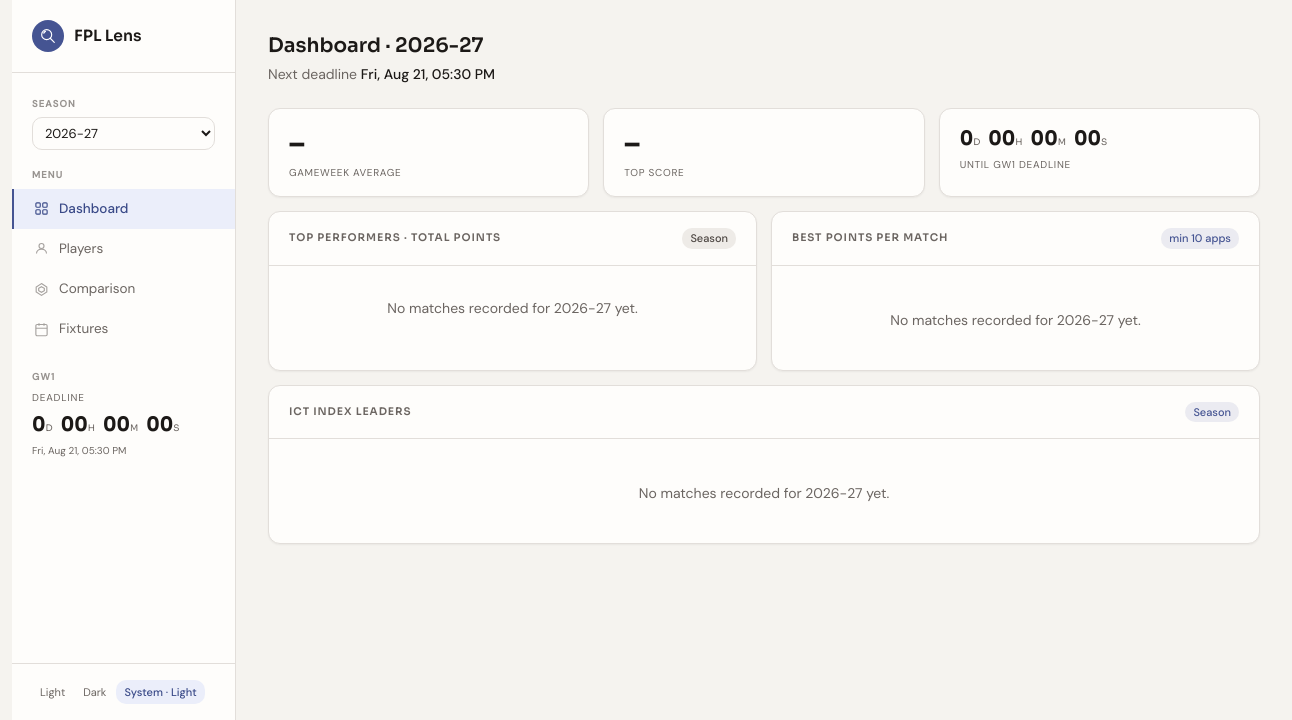
Test case: the comparison page › is reachable from the nav, and names the selected season
This screenshot has width=1292, height=720.
Click the button "Comparison" at (124, 289), box [12, 269, 235, 309]
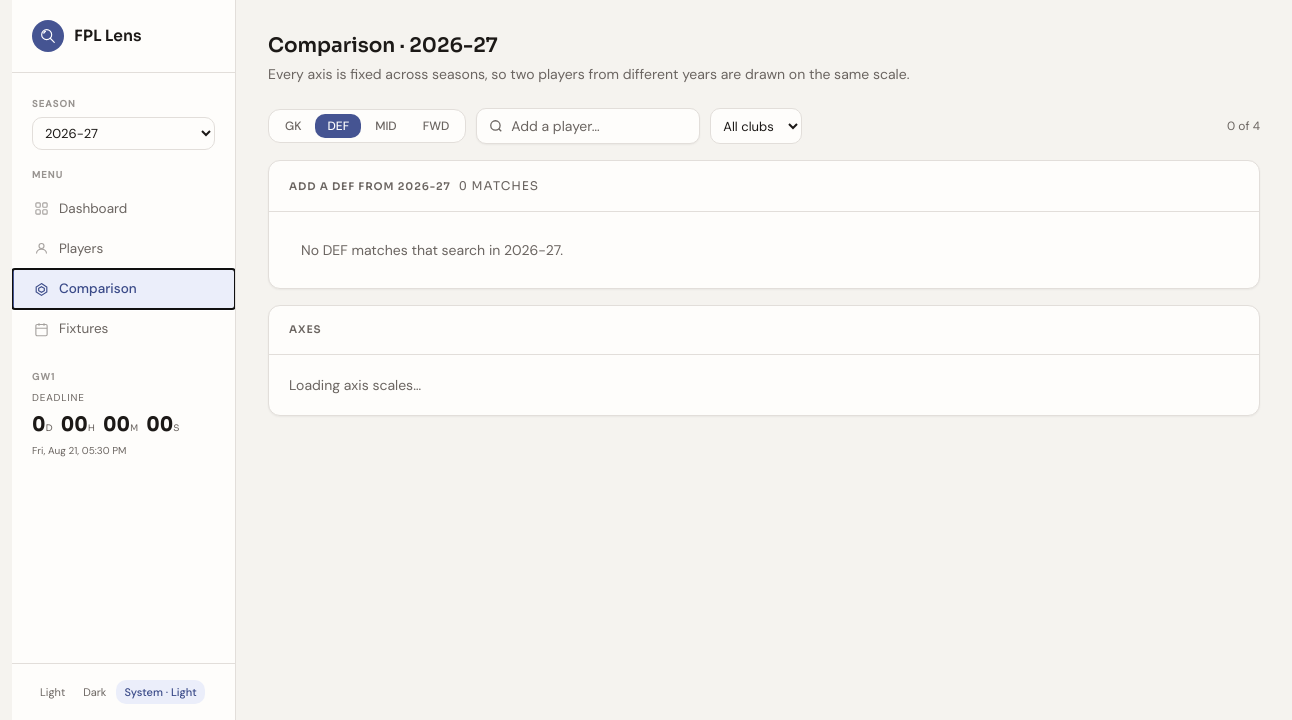
Now the text "Loading axis scales…" is shown, box [289, 376, 421, 394]
